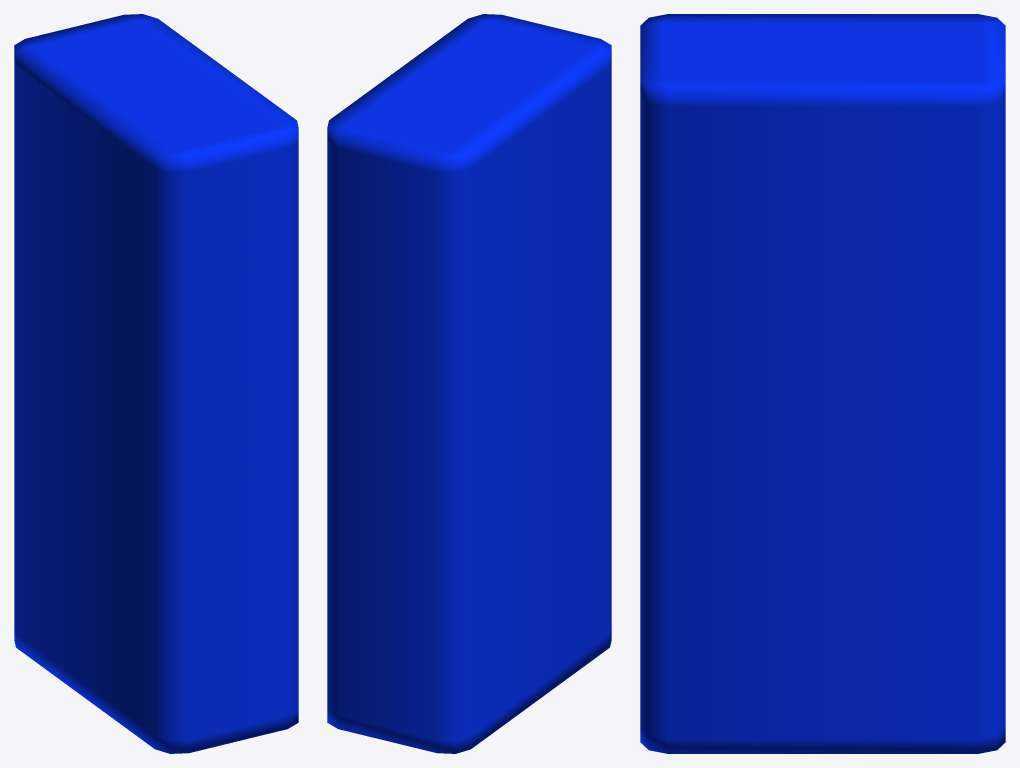
File: wooden_block_05x2_01.FBX
3 views of the same model, side by side, from view 1: azimuth 30°, elevation 25°; view 2: azimuth 150°, elevation 25°; view 3: azimuth 270°, elevation 25° (orthographic). The views are drawn at different scales.
Parts seen in each view (by area): view 1: wooden_block_05x2_01; view 2: wooden_block_05x2_01; view 3: wooden_block_05x2_01.
Part boxes in pixels (left/top/right/bottom): wooden_block_05x2_01: left=14, top=14, right=298, bottom=753; wooden_block_05x2_01: left=327, top=14, right=611, bottom=753; wooden_block_05x2_01: left=640, top=14, right=1005, bottom=753.
Bounding box in the file's own units: 98.04 × 392 × 196.
